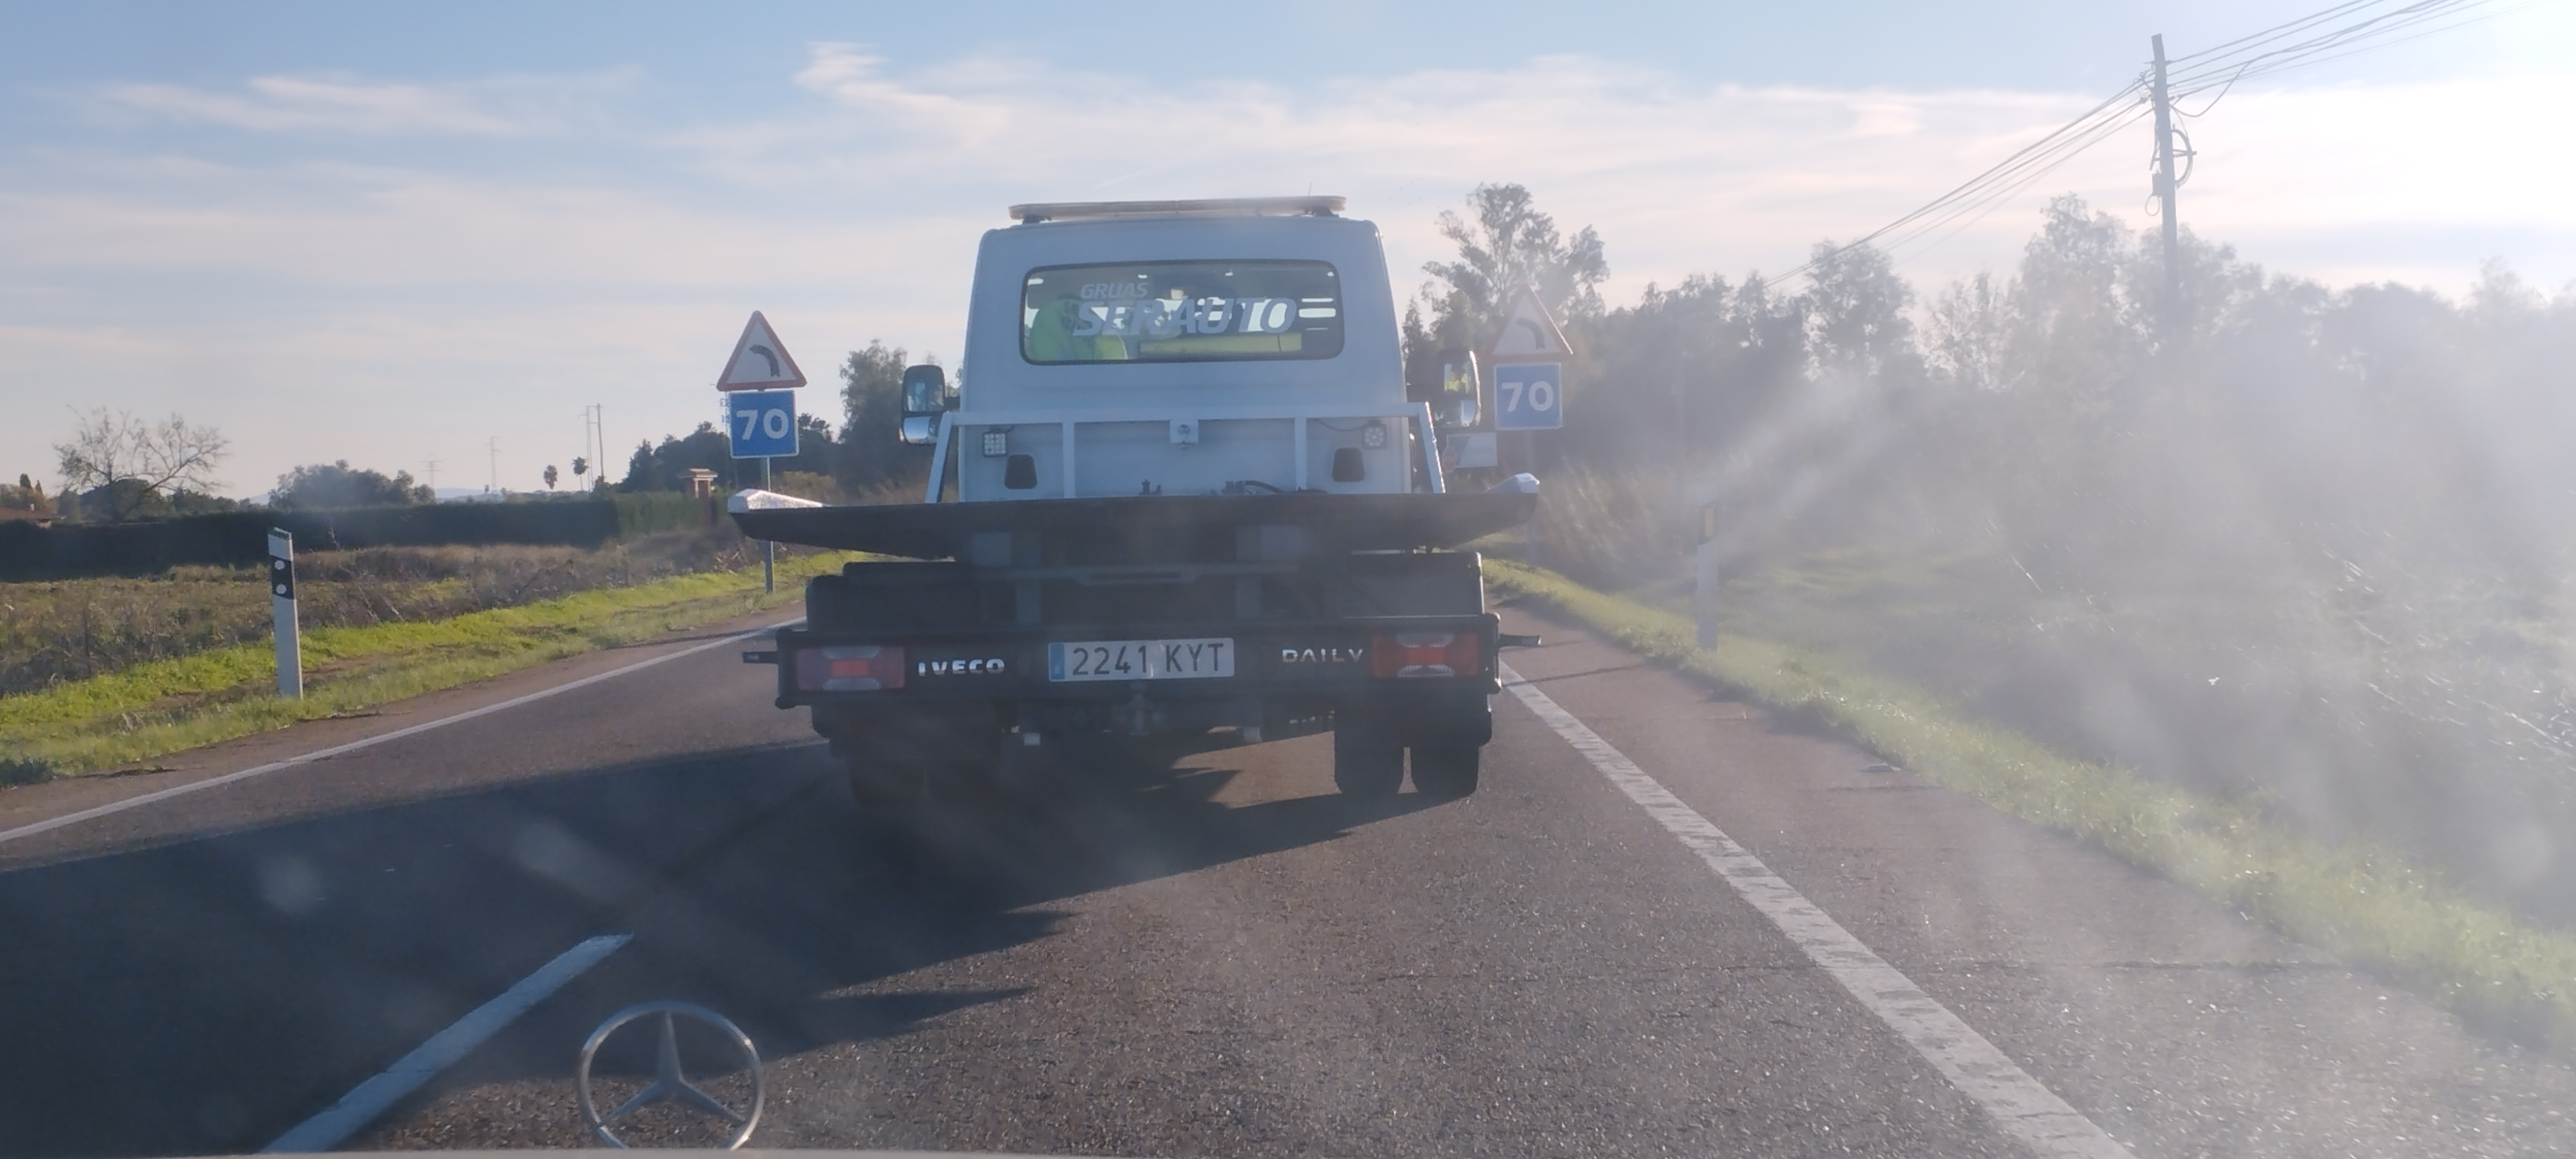Car: (733, 201, 1476, 793)
Plate: (1046, 639, 1237, 682)
